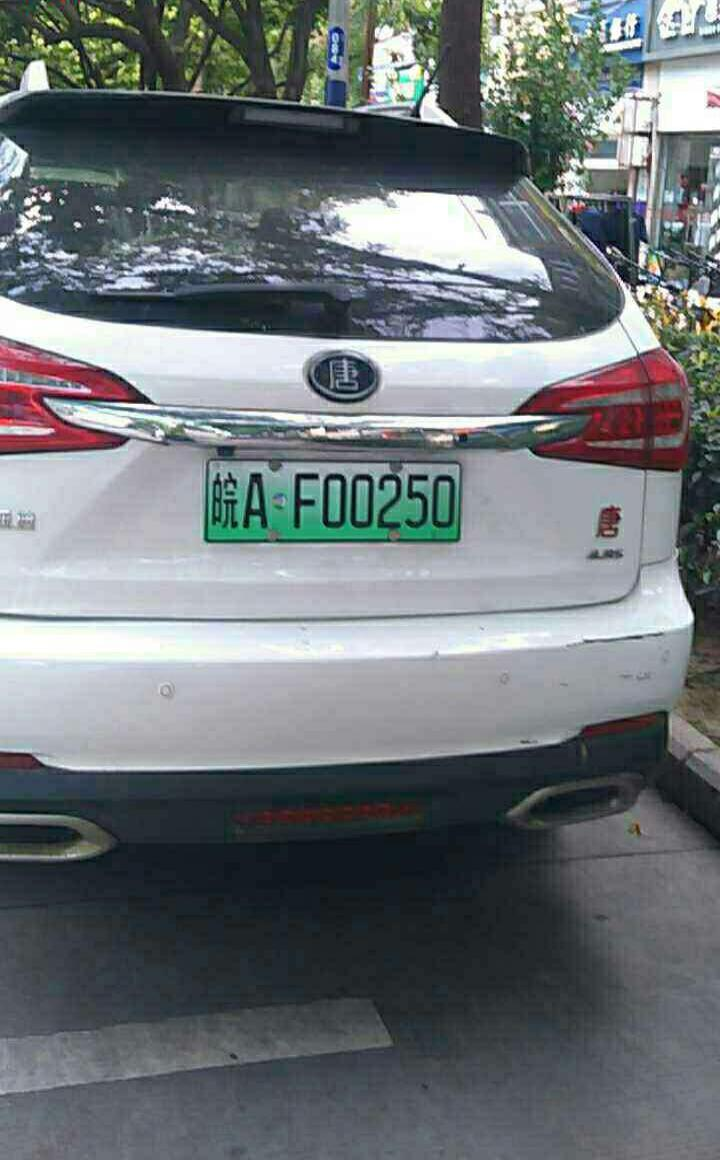car_id: (204, 459, 462, 538)
